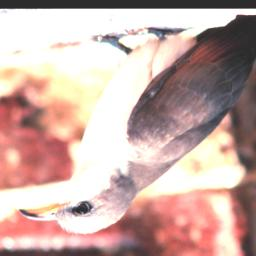Cuckoo: (18, 12, 256, 234)
